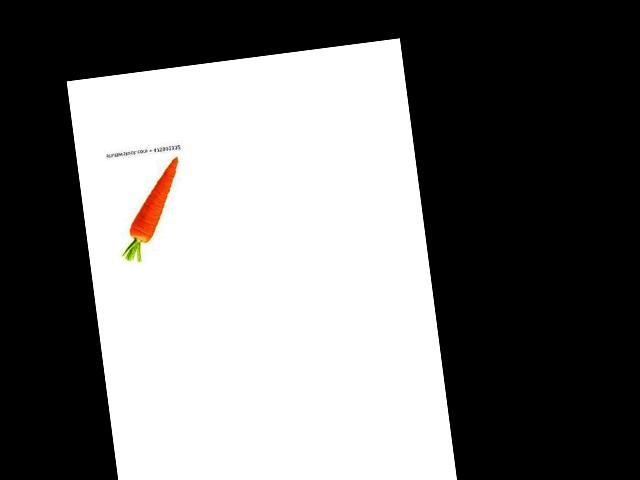carrot: (118, 153, 192, 247)
